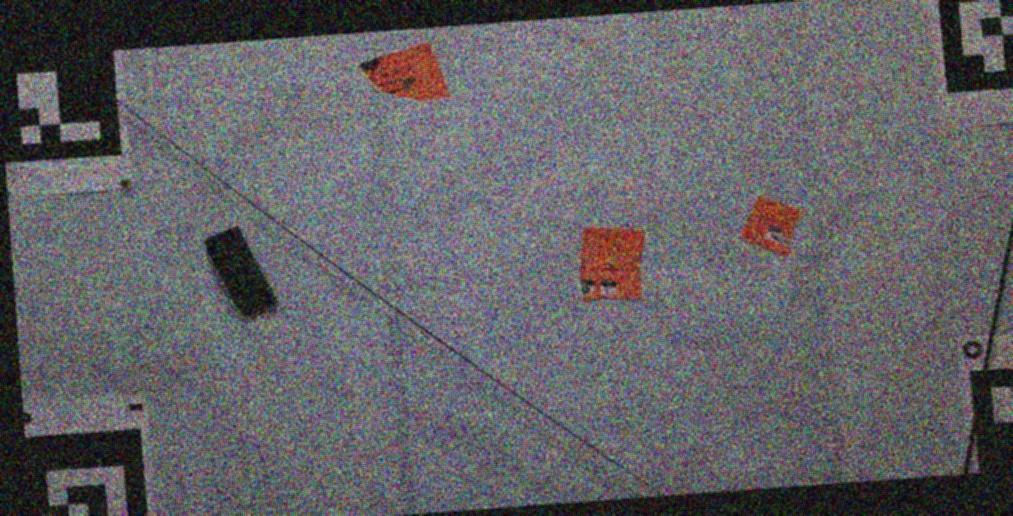obstacle: (202, 225, 279, 319), (358, 42, 449, 102), (579, 228, 645, 301), (740, 195, 802, 257)
